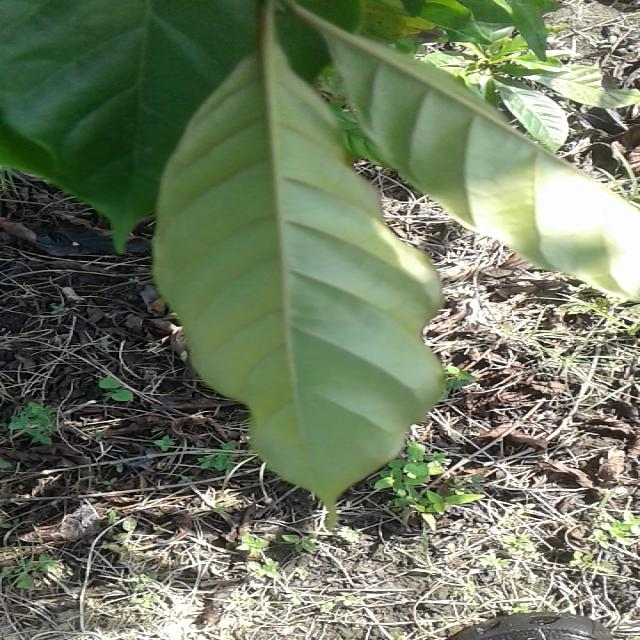Sanas: (152, 0, 454, 517)
